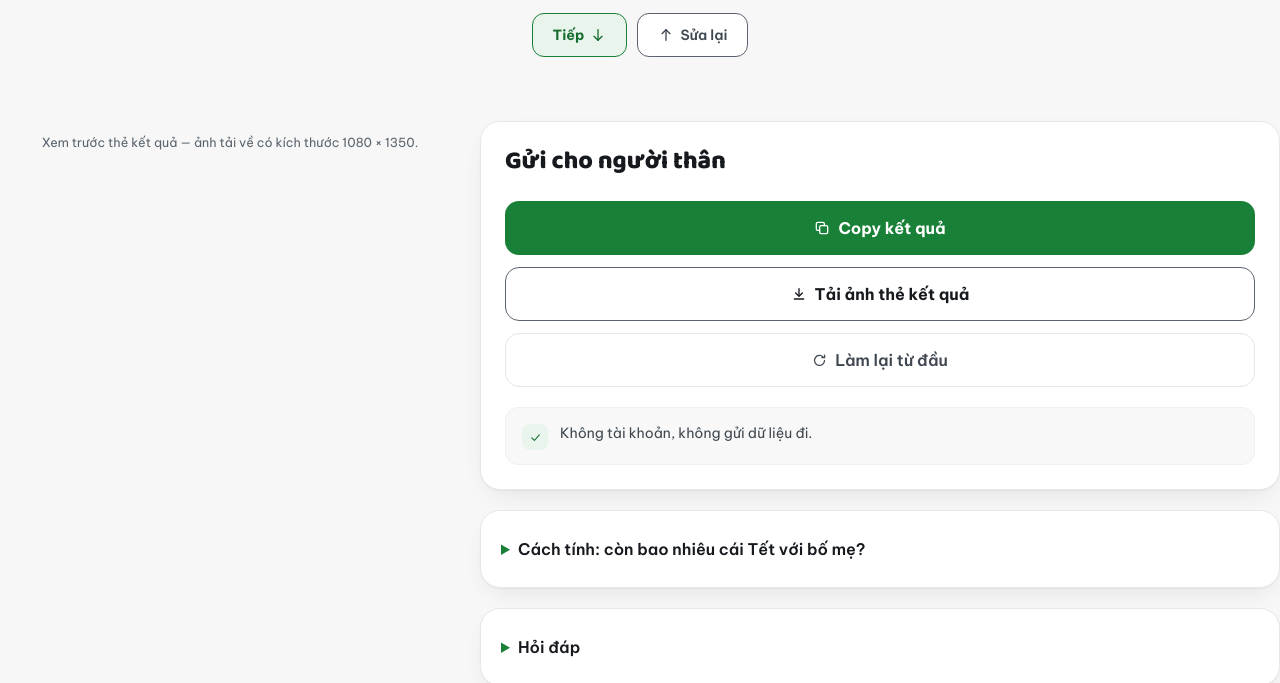
Test: Cụm C1 — focus ở các lối ra còn lại › Esc đóng khối xác nhận theo nhánh Giữ lại
(page scrolled)
Click the button "Làm lại từ đầu" at (880, 360), box [505,333,1255,387]
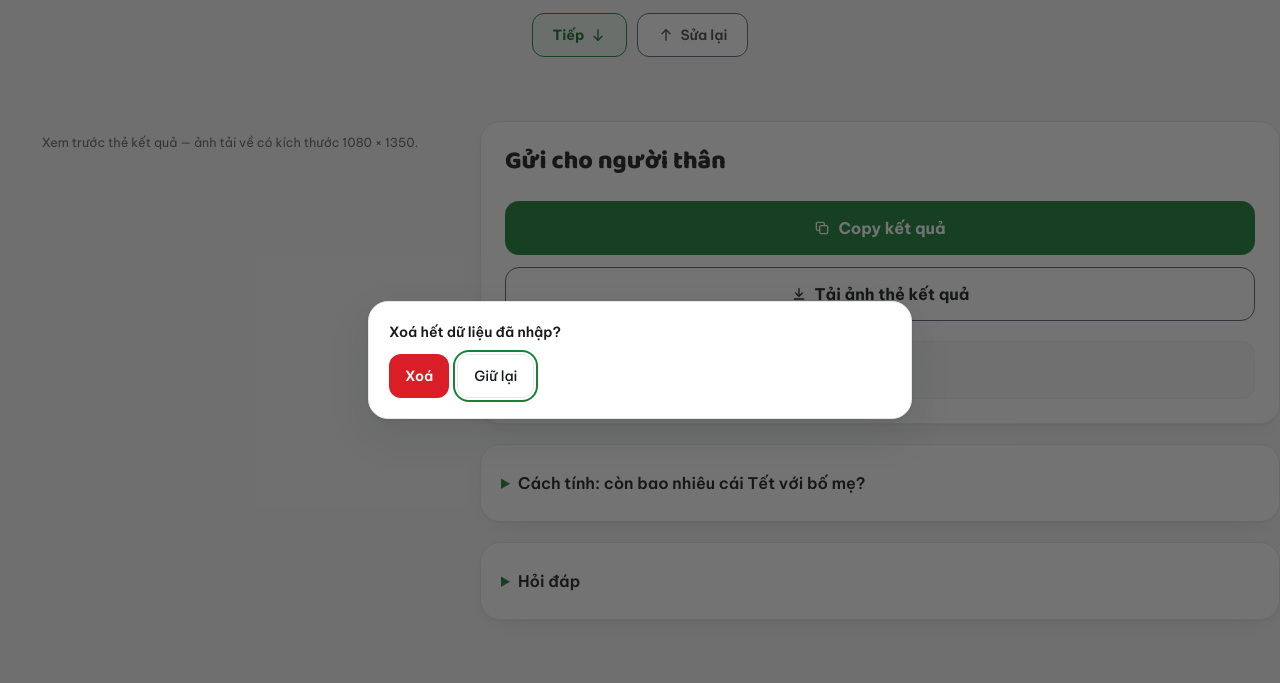
Result: the button "Giữ lại" is shown at [457,354,534,398]
Press Escape
Wait 1 ms
(page scrolled)
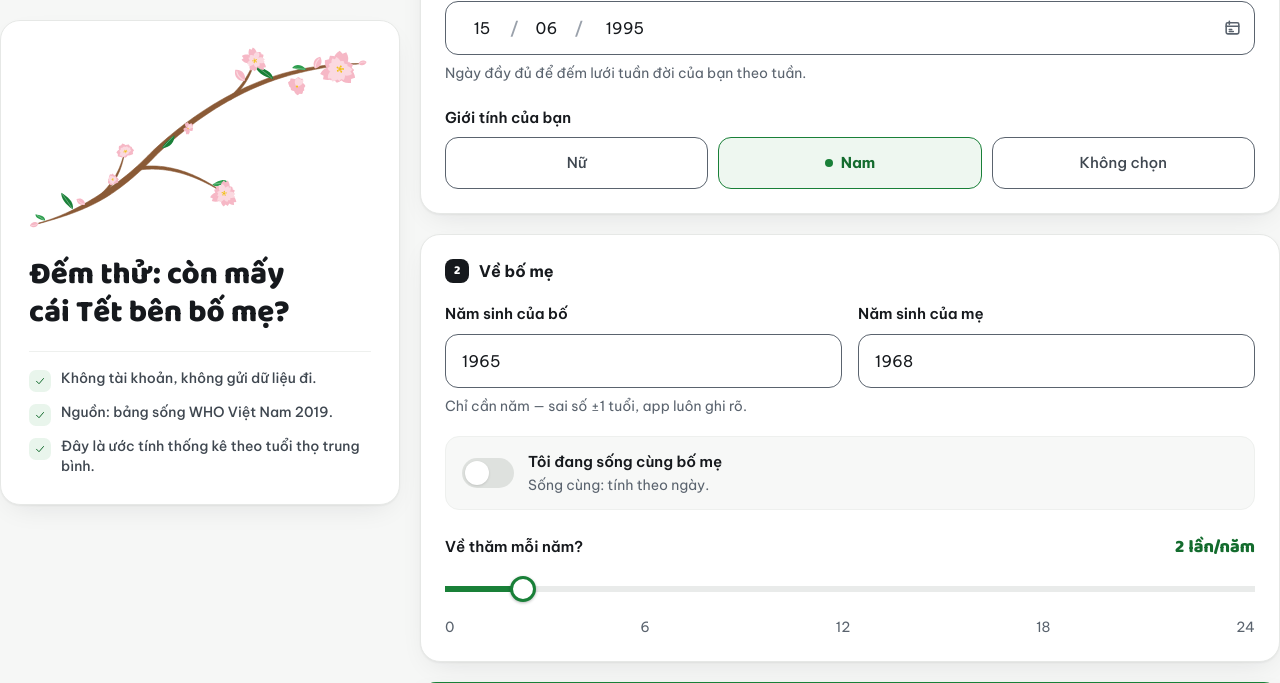
Expected: the number field with id "father-year" holds "1965", [445,334,842,388]
Result: the button "Giữ lại" is gone
